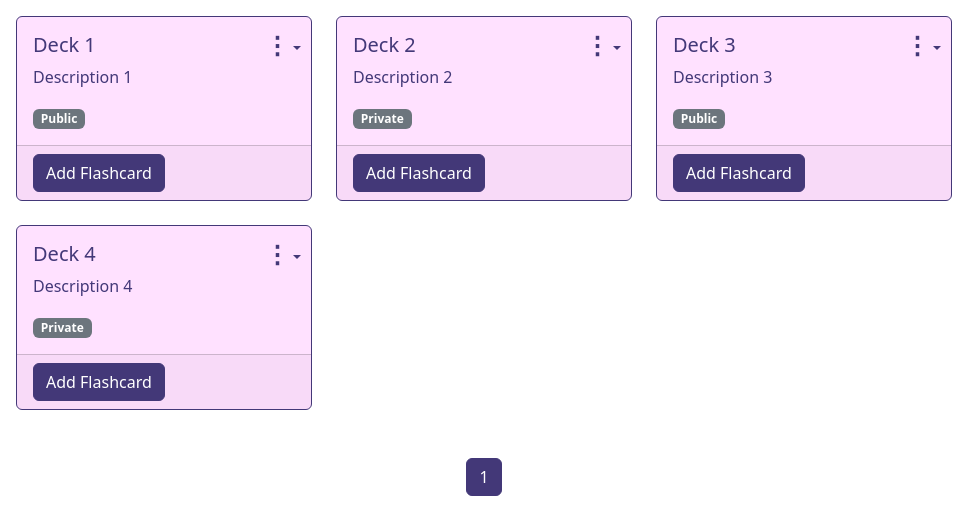
Test: handles delete deck
The width and height of the screenshot is (969, 513).
Check: the heading "Deck 1" is shown, box left=33, top=31, right=96, bottom=58
Click the button "⋮" in the row of "Deck 1" at coordinates (283, 45), box left=265, top=27, right=301, bottom=63
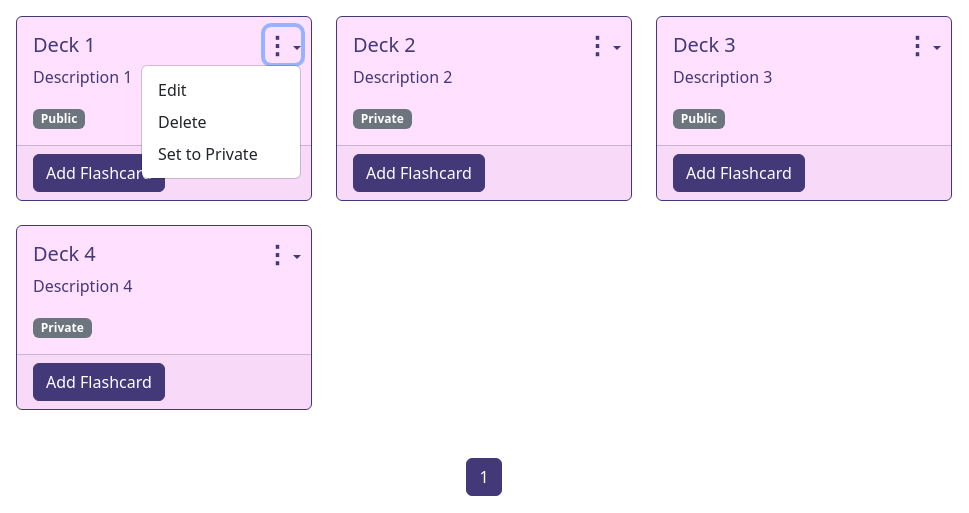
Click the button "Delete" at coordinates (182, 122), box left=158, top=111, right=207, bottom=133
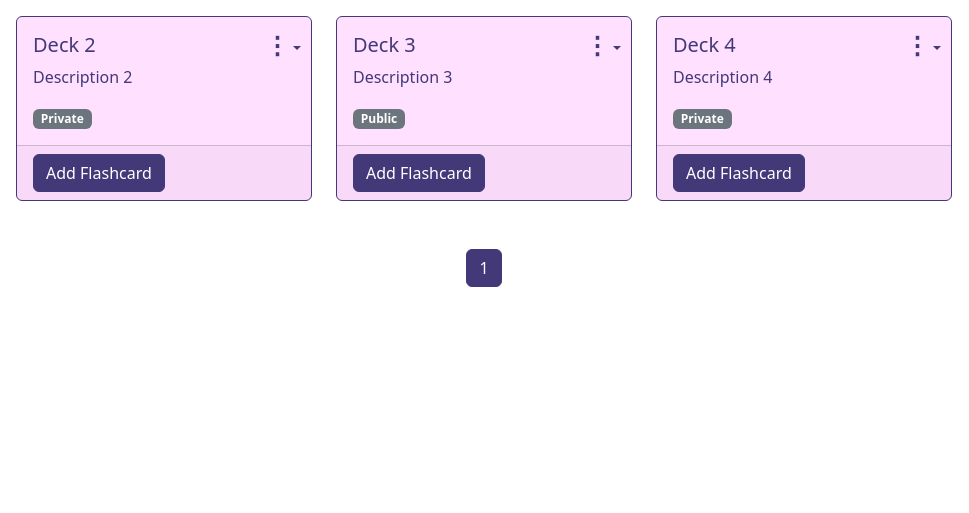
Check: the heading "Deck 1" is gone
